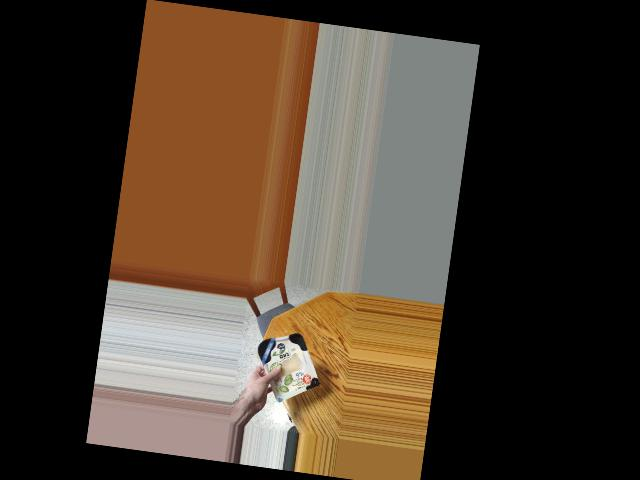cheese: (253, 329, 321, 398)
